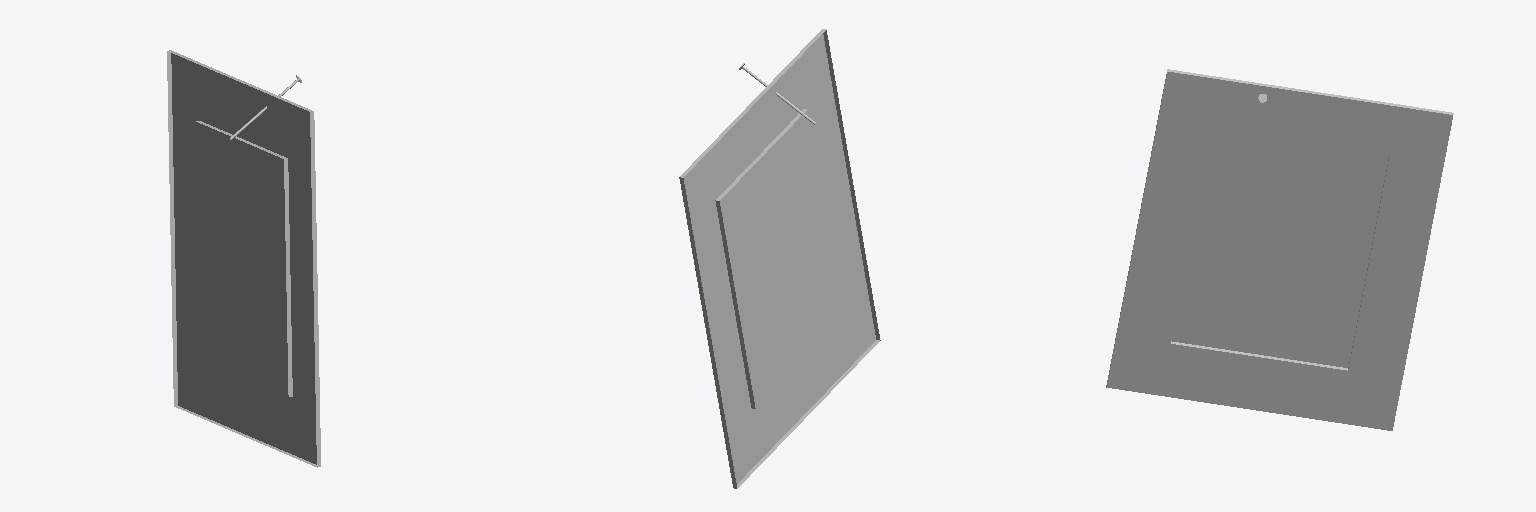
Rendered from obraz nad lozkiem4.obj.
3 views of the same model, side by side, from view 1: azimuth 30°, elevation 25°; view 2: azimuth 150°, elevation 25°; view 3: azimuth 270°, elevation 25° (orthographic).
Visible parts, largest first — view 1: Plane.006; view 2: Plane.006; view 3: Plane.006.
Part boxes in pixels (x1,y1,x2,y2): Plane.006: (167,50,320,467); Plane.006: (679,29,880,488); Plane.006: (1106,69,1453,430).
Size of the model in its own units: 0.0877 by 0.4221 by 0.3573.